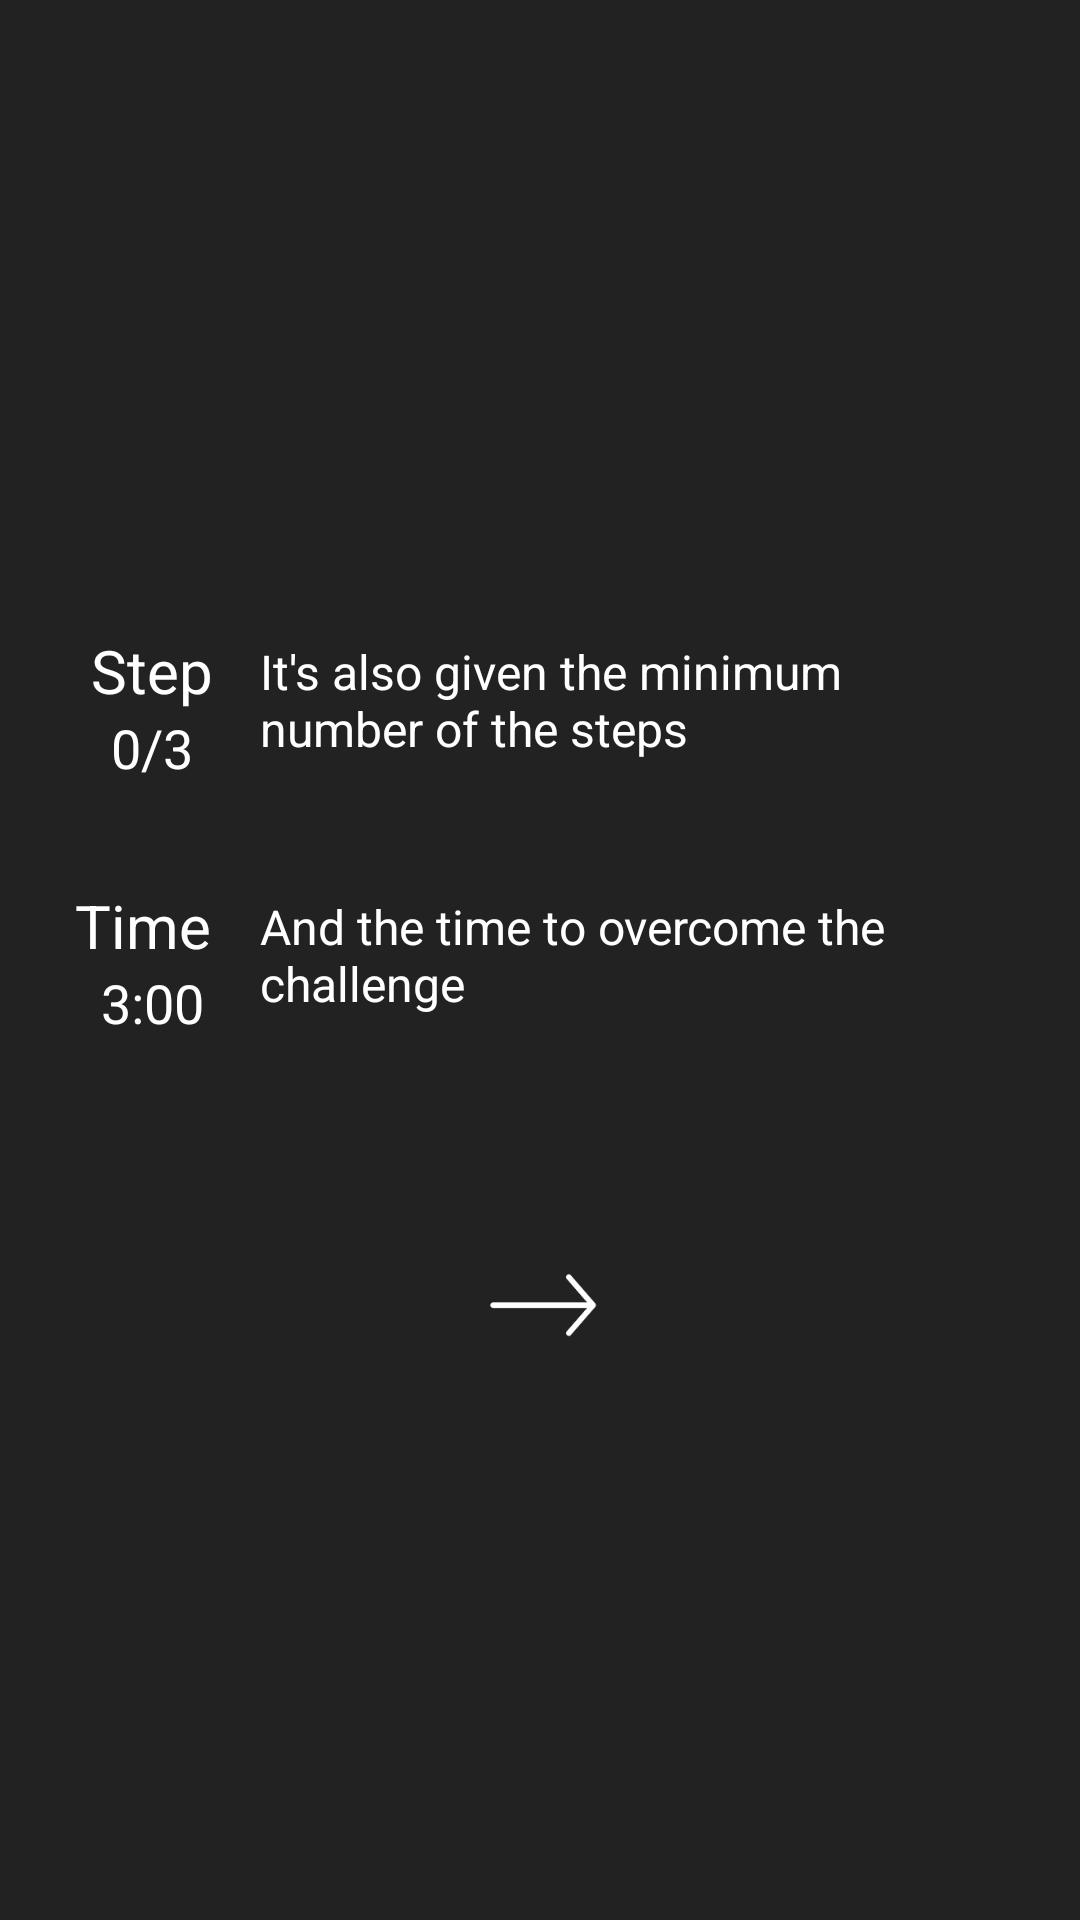

Icon bounding boxes for this 1080px x 1920px phone screenshot, format (x1, y1, x2, y2):
next: (490, 1274, 597, 1337)
